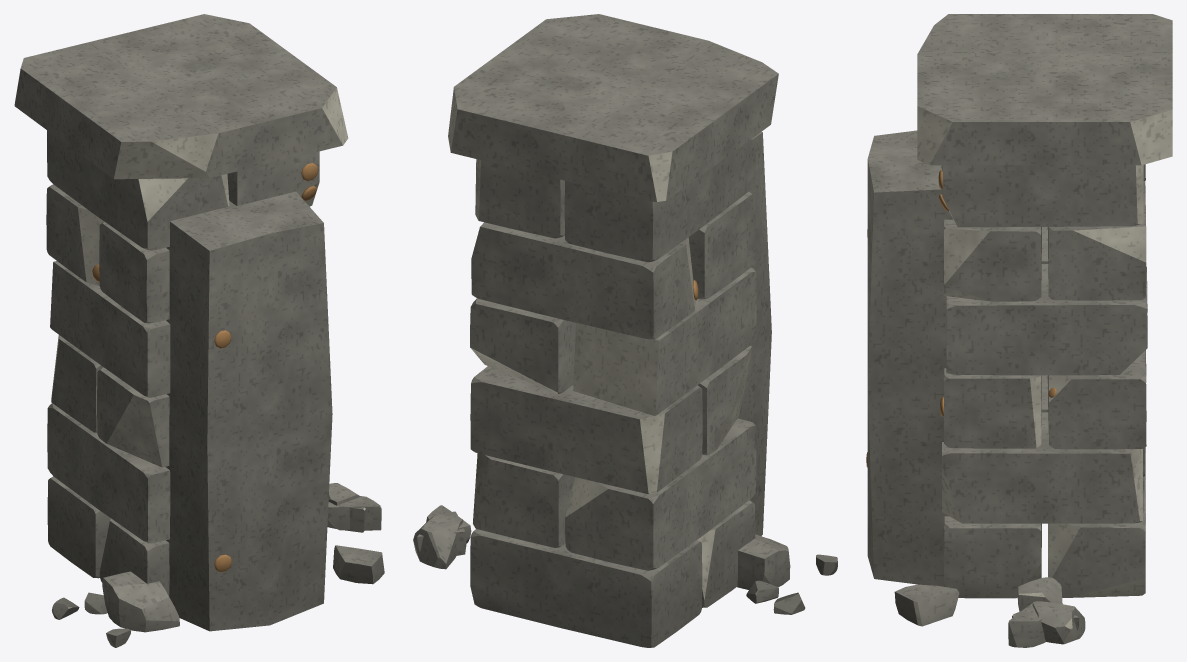
The picture shows the model from 3 angles, left to right: view 1: azimuth 30°, elevation 25°; view 2: azimuth 150°, elevation 25°; view 3: azimuth 270°, elevation 25°; orthographic projection. The views are drawn at different scales.
Parts seen in each view (by area): view 1: weathered mineral, fresh chipped mineral, peened pin; view 2: weathered mineral, fresh chipped mineral; view 3: weathered mineral, fresh chipped mineral.
Part boxes in pixels (<box>): weathered mineral: <box>14,14,384,647</box>; fresh chipped mineral: <box>51,87,384,647</box>; peened pin: <box>214,163,318,572</box>; weathered mineral: <box>413,14,837,647</box>; fresh chipped mineral: <box>413,87,758,599</box>; weathered mineral: <box>867,14,1172,647</box>; fresh chipped mineral: <box>913,106,1172,644</box>.
Size of the model in its own units: 0.9963 by 1.35 by 0.7676.
3 materials, 2 textured.
